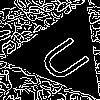U: (37, 28, 100, 86)
